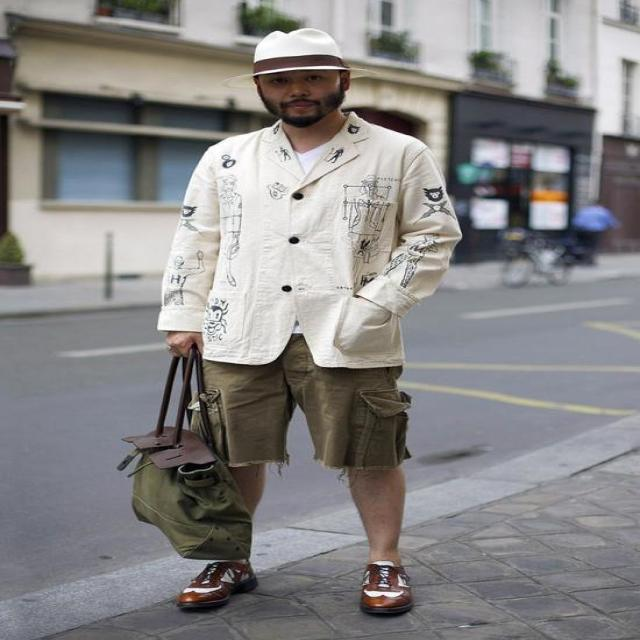short: (186, 329, 412, 469)
sweater: (159, 109, 462, 367)
